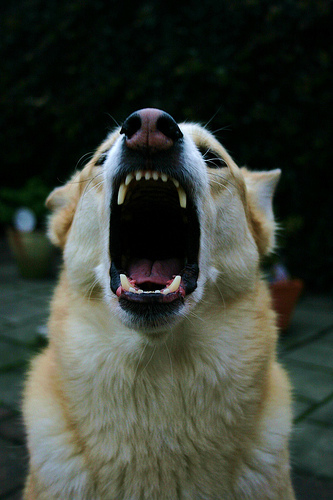dog: (12, 105, 297, 498)
